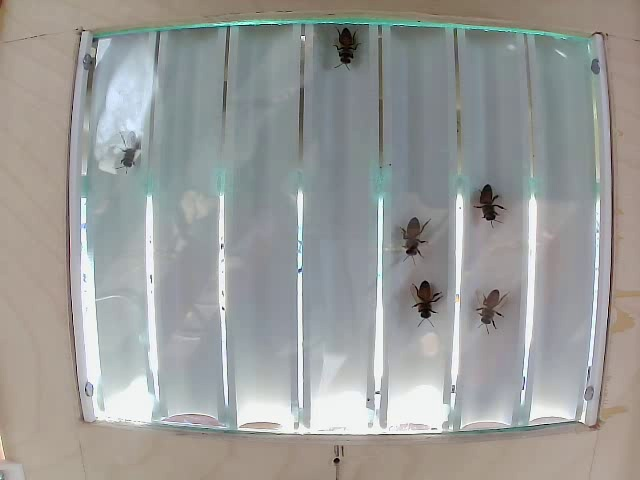bee: (390, 212, 425, 254), (473, 182, 502, 230), (118, 134, 155, 170), (328, 25, 358, 68), (403, 274, 432, 311), (475, 279, 494, 324)
